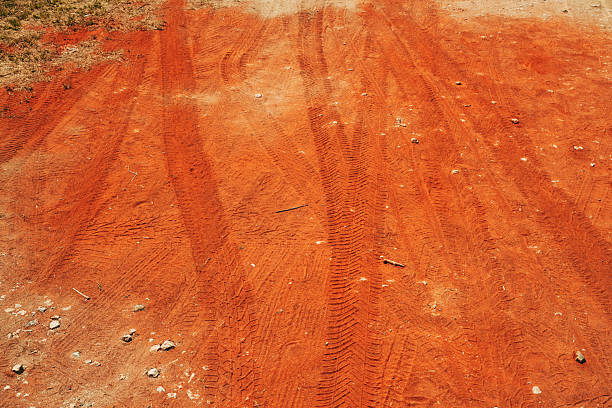vehicle_track: (161, 1, 262, 404), (298, 10, 380, 406), (415, 132, 523, 354), (36, 91, 134, 286), (0, 64, 118, 162)
